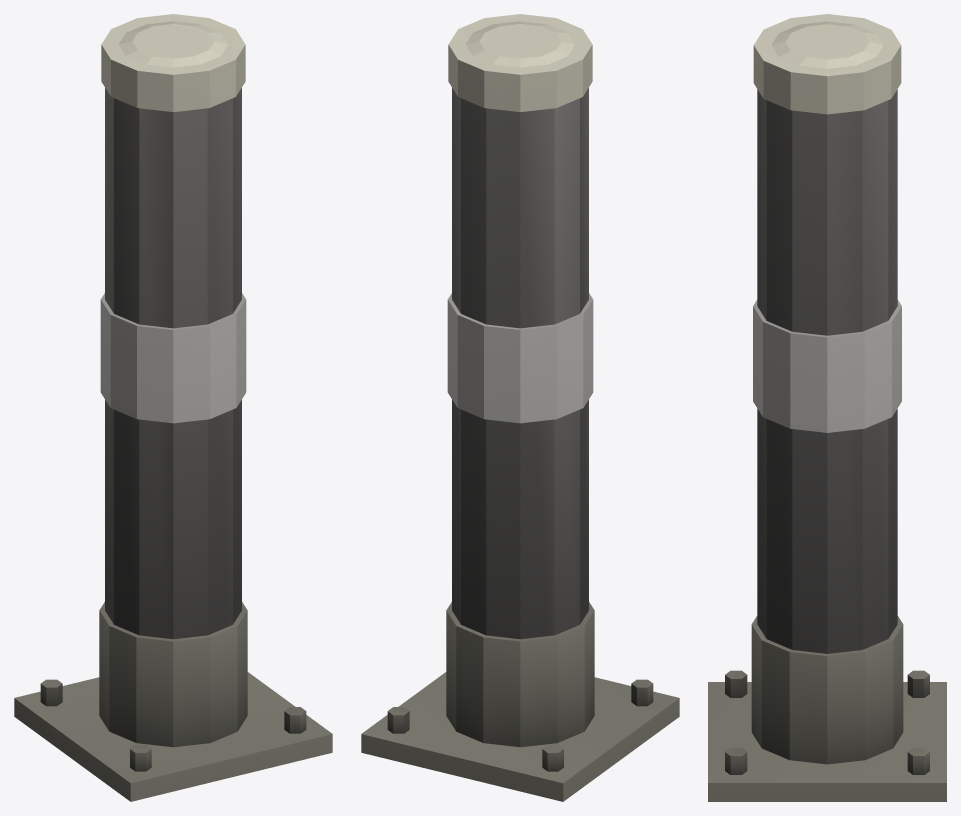
File: bollard.glb
The picture shows the model from 3 angles, left to right: view 1: azimuth 30°, elevation 25°; view 2: azimuth 150°, elevation 25°; view 3: azimuth 270°, elevation 25°; orthographic projection. The views are drawn at different scales.
Visible parts, largest first — view 1: bollard; view 2: bollard; view 3: bollard.
Boxes of the visible parts, box(x1,y1,x2,y2) form: bollard: box(14, 14, 332, 801); bollard: box(361, 14, 679, 801); bollard: box(708, 14, 946, 801).
Bounding box in the file's own units: 0.34 × 1.12 × 0.34.
